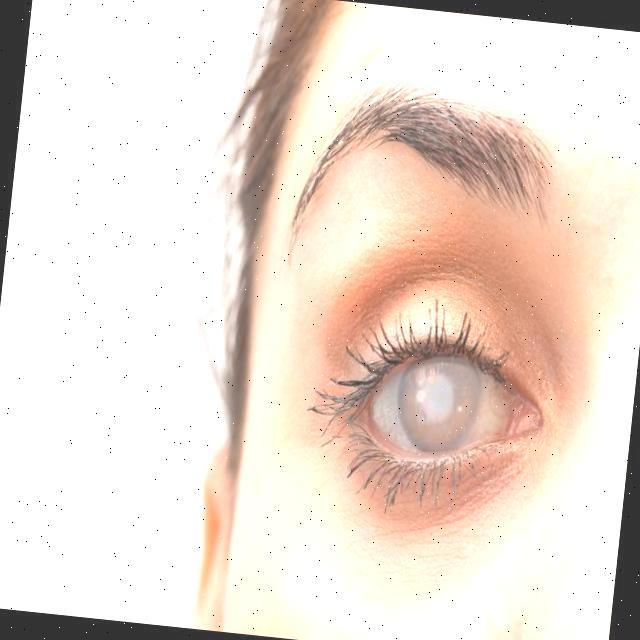Cataract: (392, 330, 487, 456)
